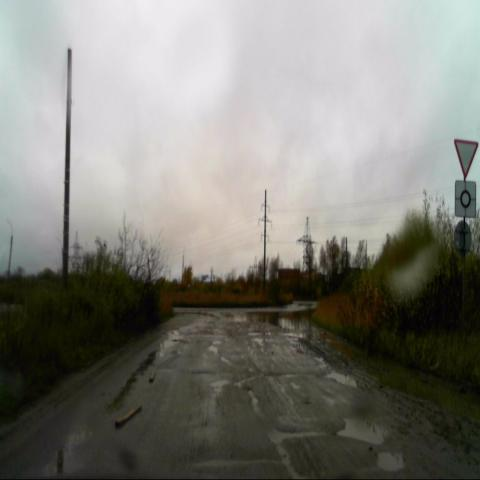8_13_1: (454, 179, 477, 218)
